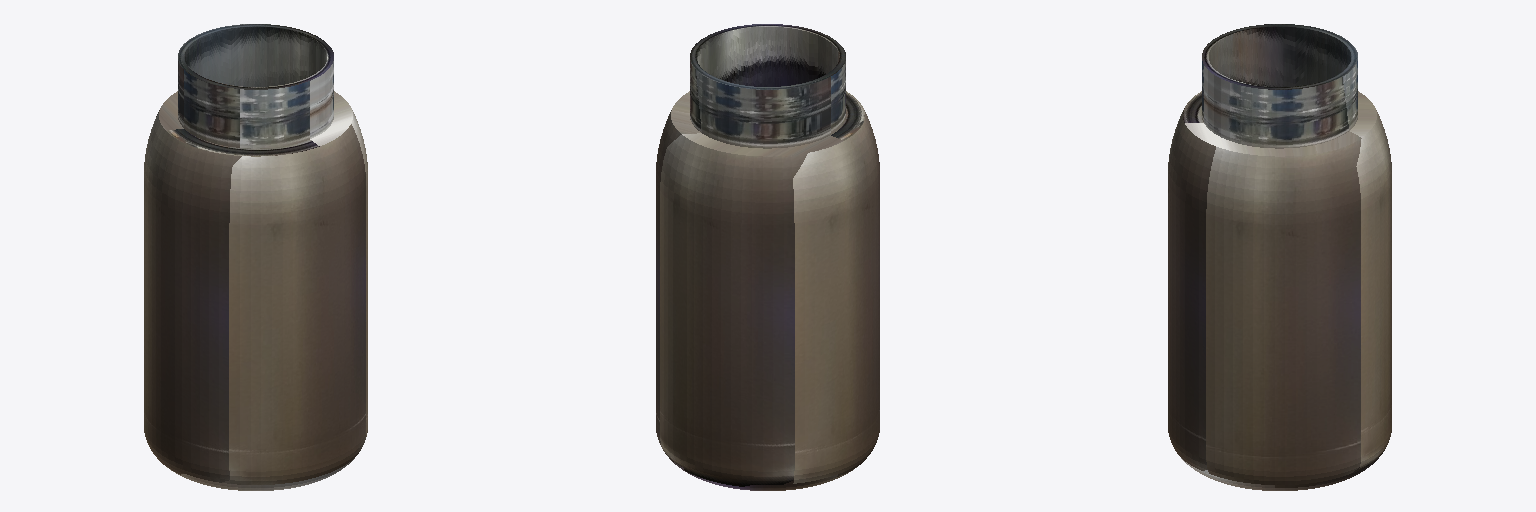
3 renders of one model, left to right at view 1: azimuth 30°, elevation 25°; view 2: azimuth 150°, elevation 25°; view 3: azimuth 270°, elevation 25°, orthographic.
Size of the model in its own units: 0.0659 by 0.129 by 0.066.
1 materials, 1 textured.